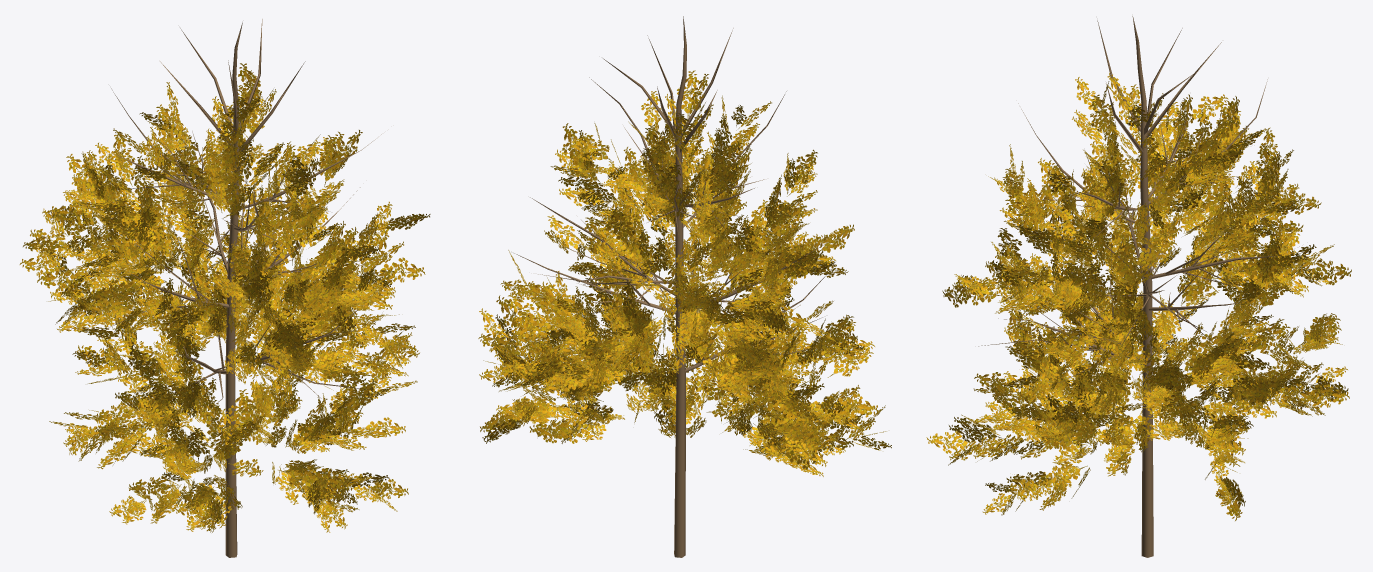
The model's file is tree1_lod1.glb.
The picture shows the model from 3 angles, left to right: view 1: azimuth 30°, elevation 25°; view 2: azimuth 150°, elevation 25°; view 3: azimuth 270°, elevation 25°; orthographic projection.
Visible parts, largest first — view 1: leaves, trunk; view 2: leaves, trunk; view 3: leaves, trunk.
Boxes of the visible parts, bbox=[...] form: leaves: bbox=[19, 63, 430, 532]; trunk: bbox=[100, 19, 381, 557]; leaves: bbox=[478, 70, 891, 476]; trunk: bbox=[514, 16, 839, 557]; leaves: bbox=[926, 72, 1351, 520]; trunk: bbox=[978, 16, 1299, 557].
Size of the model in its own units: 21385 by 30699 by 22272.
Materials: 2 (1 with a texture image).
